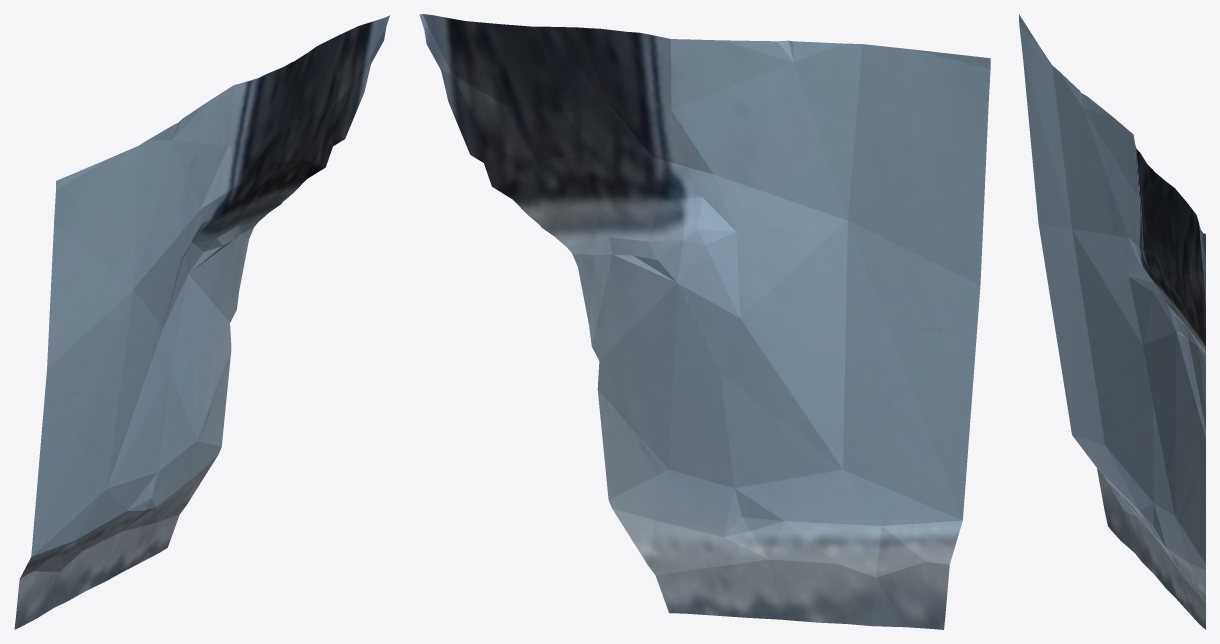
3 views of the same model, side by side, from view 1: azimuth 30°, elevation 25°; view 2: azimuth 150°, elevation 25°; view 3: azimuth 270°, elevation 25° (orthographic). The views are drawn at different scales.
Size of the model in its own units: 1.54 by 1.67 by 0.5538.
Materials: 2 (2 with a texture image).
